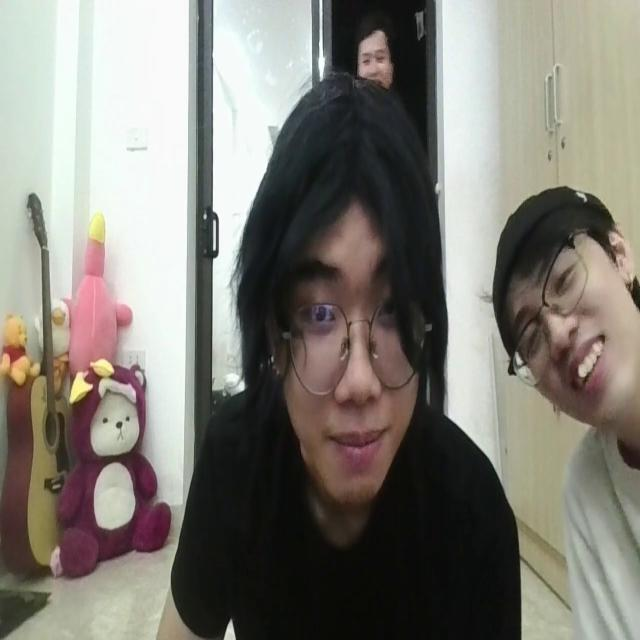extra_person: (489, 177, 640, 640)
student: (154, 66, 518, 640)
